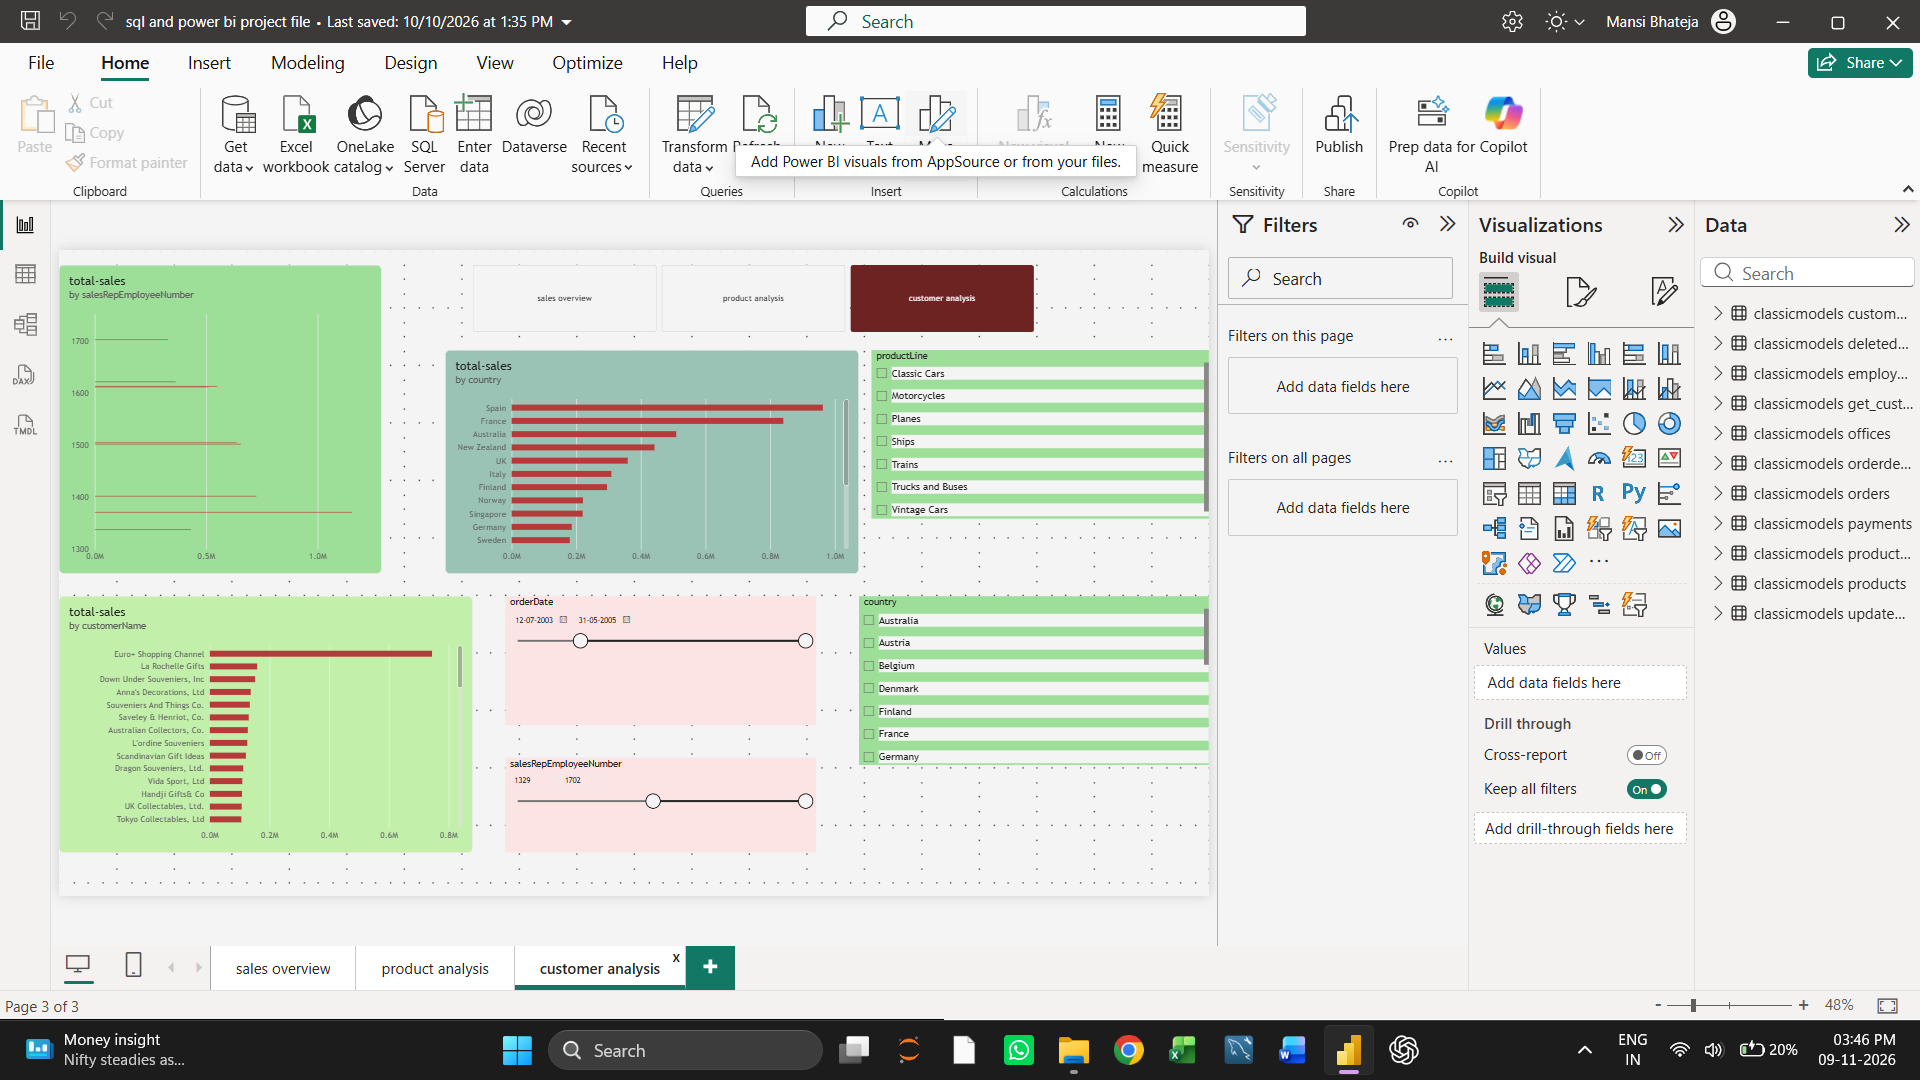

What the dashboard file says about the page in this screenshot:
{"tool":"powerbi","page":{"name":"customer analysis","canvas":[1920,1080],"ordinal":2},"visuals":[{"type":"barChart","fields":{"Category":["classicmodels customers.salesRepEmployeeNumber"],"Y":["classicmodels orders.total-sales"]},"box":[0,25,538.4,515.5],"z":0},{"type":"barChart","fields":{"Category":["classicmodels customers.country"],"Y":["classicmodels orders.total-sales"]},"box":[644.9,167,690.8,373.6],"z":1},{"type":"barChart","fields":{"Category":["classicmodels customers.customerName"],"Y":["classicmodels orders.total-sales"]},"box":[0,578.1,690.8,427.8],"z":2},{"type":"slicer","fields":{"Values":["classicmodels orders.orderDate"]},"box":[745,578.1,517.6,215],"z":3},{"type":"slicer","fields":{"Values":["classicmodels productlines.productLine"]},"box":[1356.5,167,563.5,281.7],"z":4},{"type":"slicer","fields":{"Values":["classicmodels customers.country"]},"box":[1335.7,578.1,584.3,281.7],"z":5},{"type":"slicer","fields":{"Values":["classicmodels customers.salesRepEmployeeNumber"]},"box":[745,847.3,517.6,158.6],"z":6},{"type":"pageNavigator","box":[690.8,25,937,112.7],"z":7}]}

Visuals, with their boxes on the page's 1920x1080 design canvas (x1, y1, x2, y2). These are canvas units, not pixel positions in the 1920x1080 screenshot, which may show the page scaled, cropped or inside an application window:
barChart - classicmodels customers.salesRepEmployeeNumber x classicmodels orders.total-sales: [0, 25, 538, 540]
barChart - classicmodels customers.country x classicmodels orders.total-sales: [645, 167, 1336, 541]
barChart - classicmodels customers.customerName x classicmodels orders.total-sales: [0, 578, 691, 1006]
slicer - classicmodels orders.orderDate: [745, 578, 1263, 793]
slicer - classicmodels productlines.productLine: [1356, 167, 1920, 449]
slicer - classicmodels customers.country: [1336, 578, 1920, 860]
slicer - classicmodels customers.salesRepEmployeeNumber: [745, 847, 1263, 1006]
pageNavigator: [691, 25, 1628, 138]
